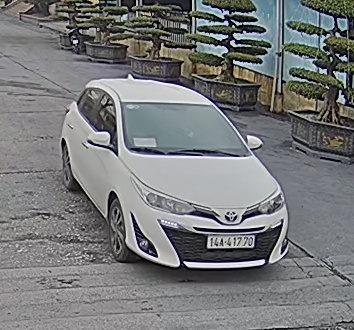vehicle plate: (204, 232, 258, 250)
